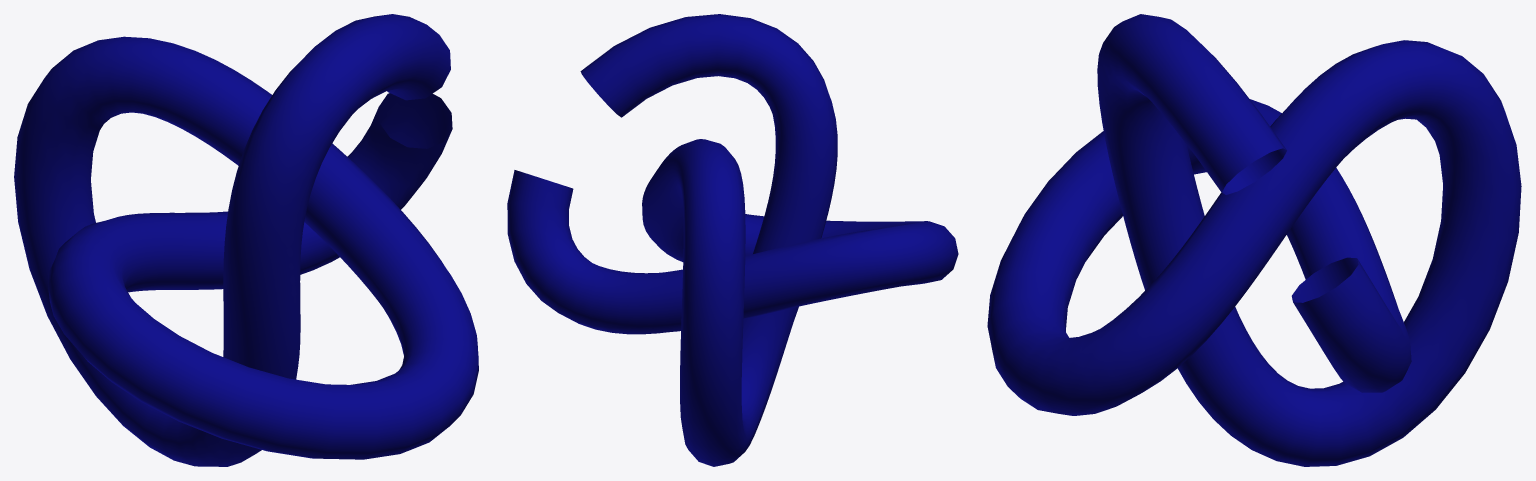
Rendered from torusknot.obj.
3 renders of one model, left to right at view 1: azimuth 30°, elevation 25°; view 2: azimuth 150°, elevation 25°; view 3: azimuth 270°, elevation 25°, orthographic. The views are drawn at different scales.
Parts seen in each view (by area): view 1: Torus_Knot001; view 2: Torus_Knot001; view 3: Torus_Knot001.
Boxes of the visible parts, x1,y1,x2,y2 form: Torus_Knot001: (14,14,478,466); Torus_Knot001: (507,14,958,466); Torus_Knot001: (987,14,1521,466).
Size of the model in its own units: 99.22 by 97.2 by 98.63.
